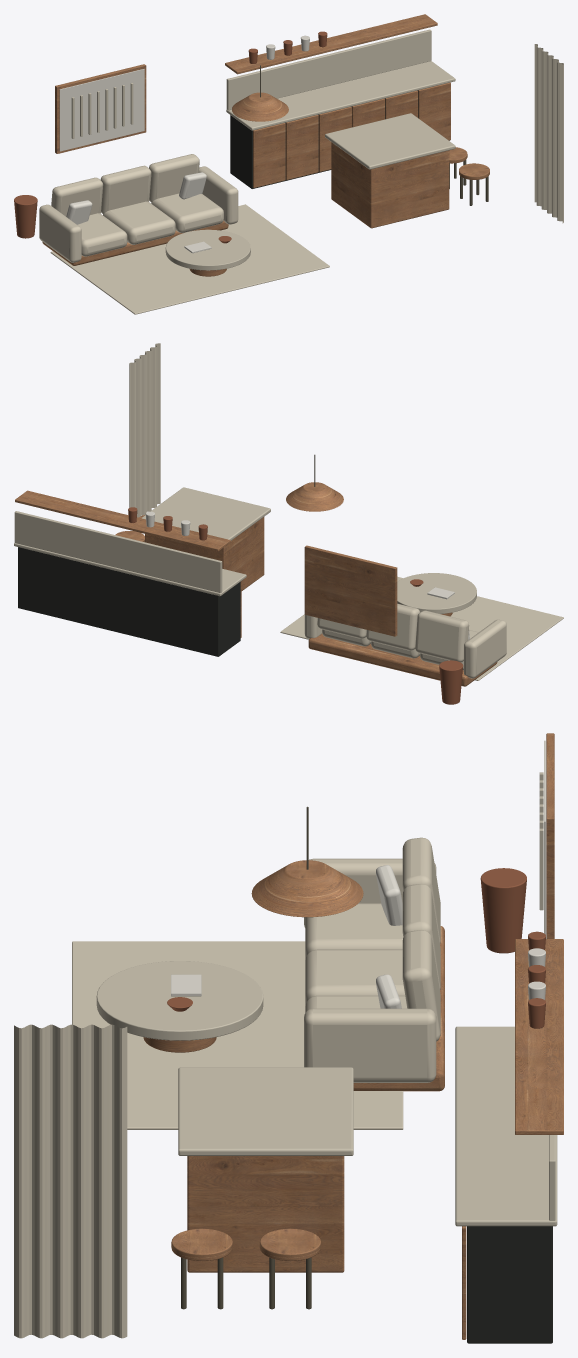
Rendered from casa-patio-interior.glb.
3 views of the same model, one above another, from view 1: azimuth 30°, elevation 25°; view 2: azimuth 150°, elevation 25°; view 3: azimuth 270°, elevation 25° (orthographic). The views are drawn at different scales.
Parts seen in each view (by area): view 1: interior_geometry; view 2: interior_geometry; view 3: interior_geometry.
Boxes of the visible parts, x1,y1,x2,y2 form: interior_geometry: [14, 14, 563, 314]; interior_geometry: [14, 343, 563, 704]; interior_geometry: [14, 733, 563, 1343].
Size of the model in its own units: 7.89 by 2.85 by 4.48.
8 materials, 1 textured.
